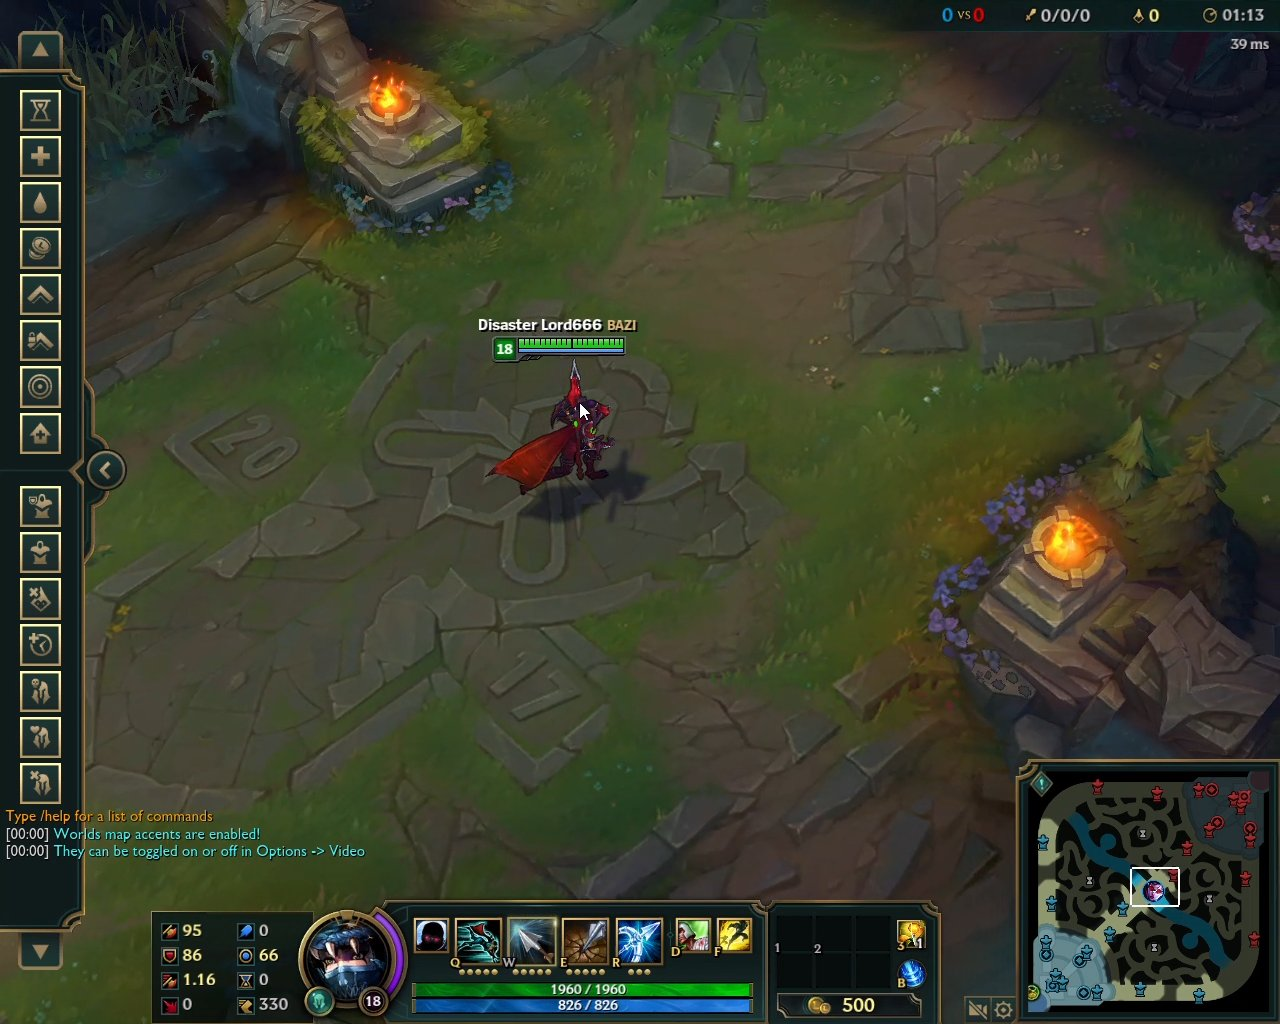Vayne: (481, 360, 616, 501)
